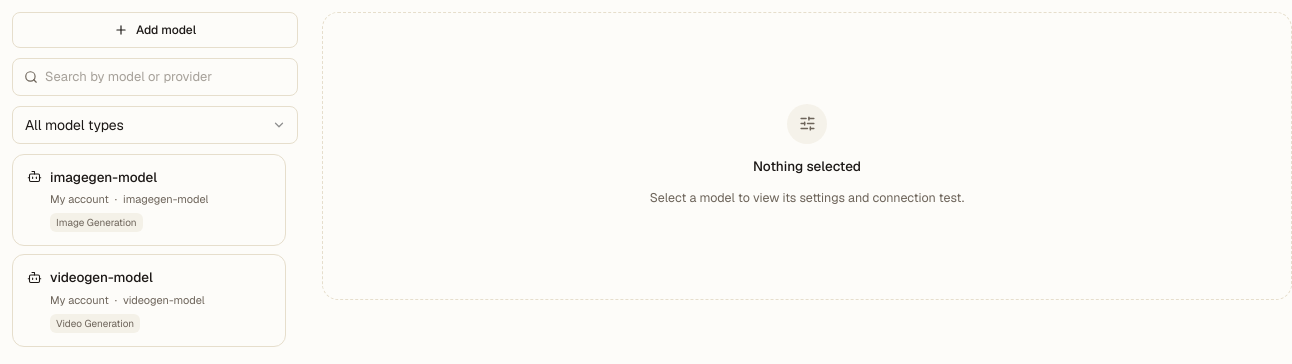
it: multimodal only lists and creates its own model types
Click the button "Add model".
click(155, 30)  # box [12, 12, 298, 48]
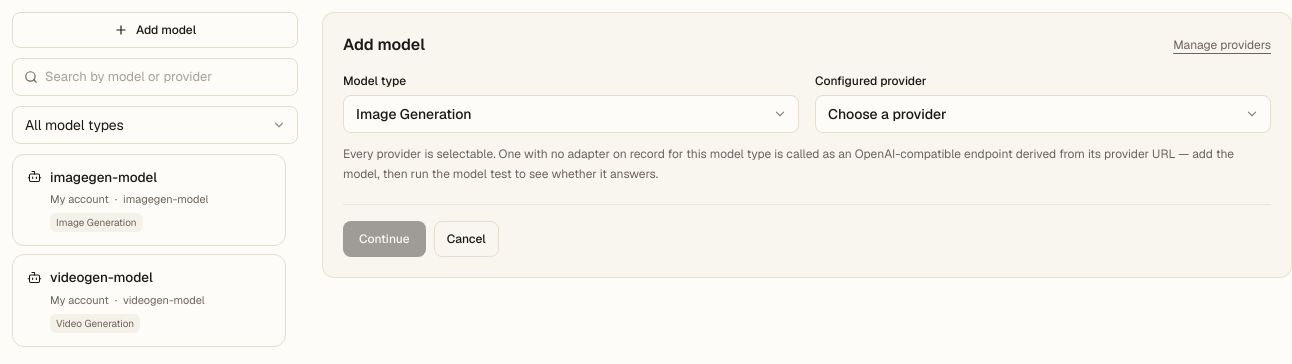
Expected: the dropdown labelled "Model type" shows "Image Generation", [343, 95, 799, 133]
